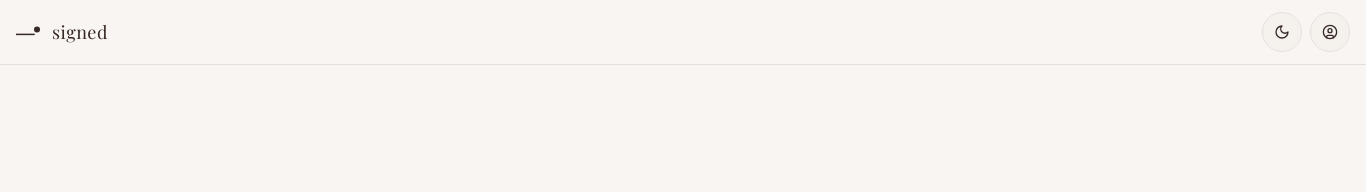
Navbar › Account dropdown menu › opens on click
The image size is (1366, 192).
Click the button named "Account" at (1330, 32), box [1310,12,1350,52]
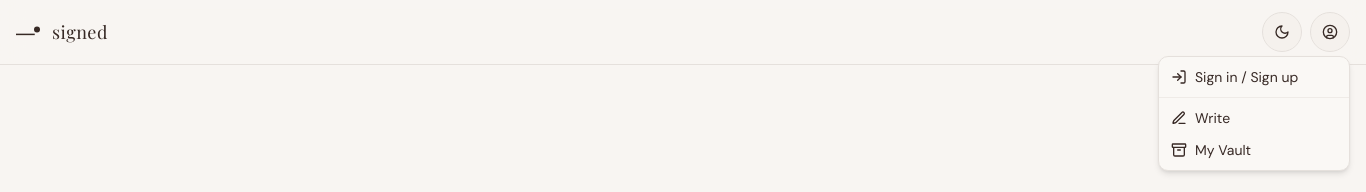
expect the menu item "Write" is shown: met, box [1171,109,1230,127]
expect the menu item "My Vault" is shown: met, box [1171,141,1251,159]
